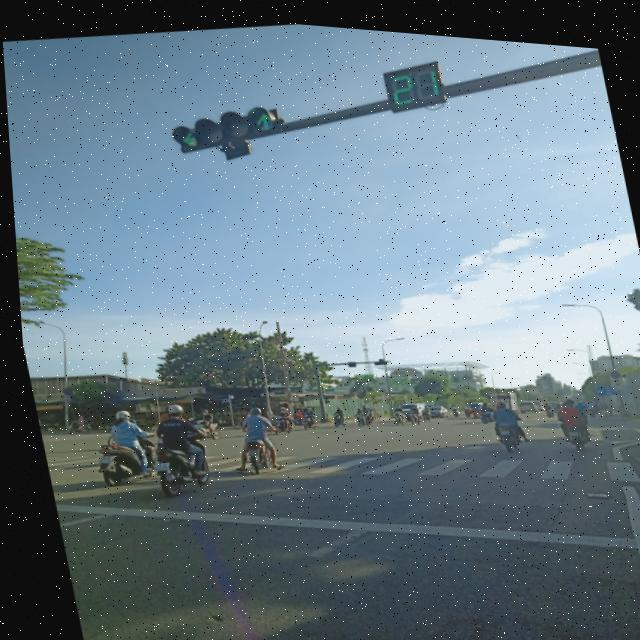Green: (171, 89, 290, 157)
